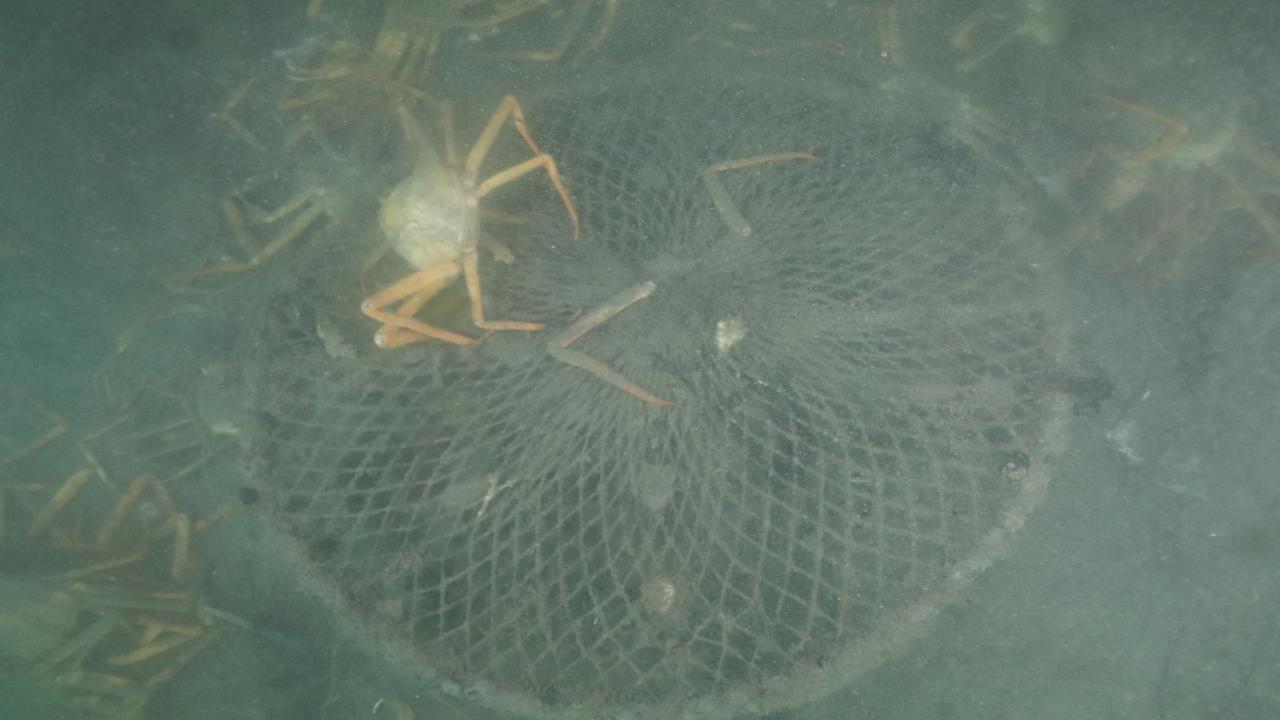circular fish trap: (234, 56, 1080, 712)
